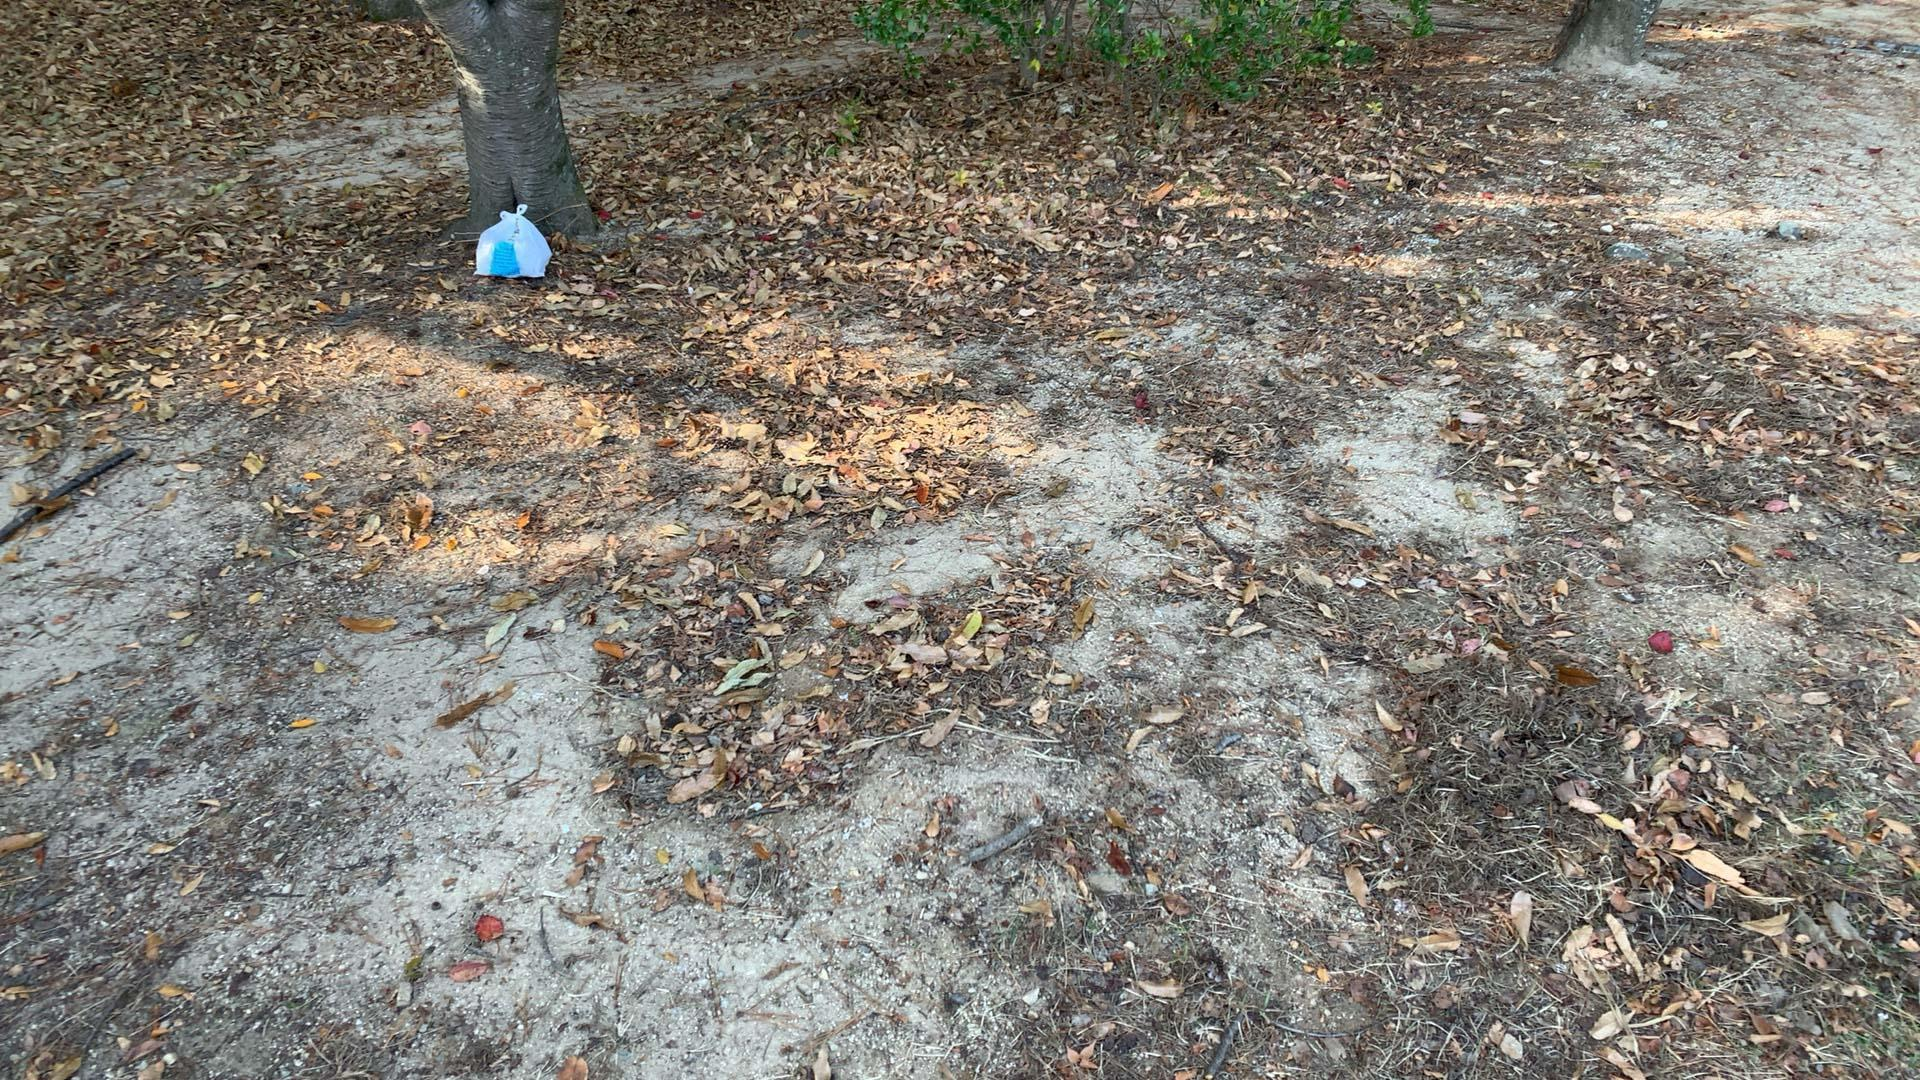white_bag: (467, 200, 556, 282)
